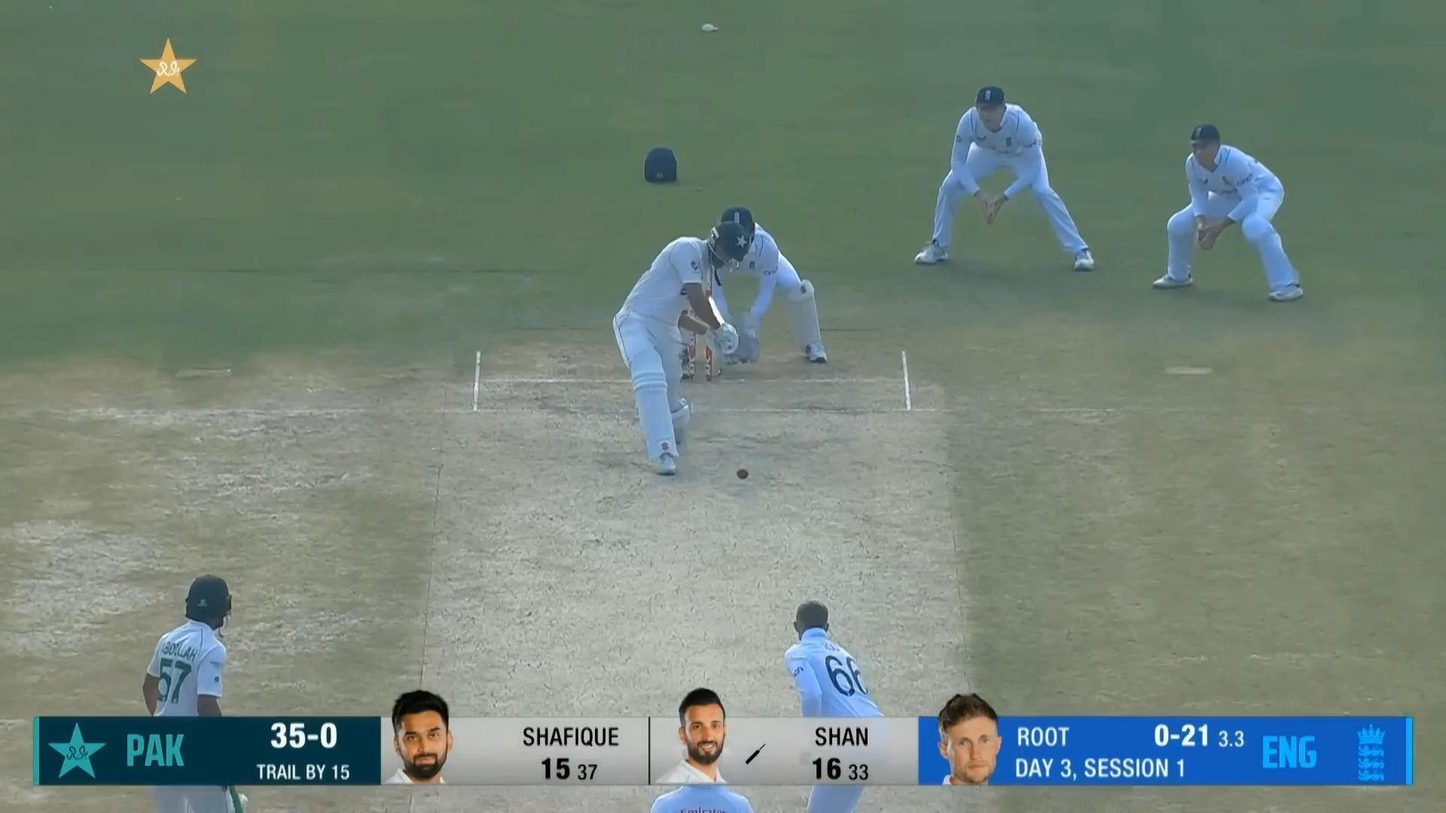BM 1: (610, 219, 750, 478)
BO: (786, 598, 885, 813)
